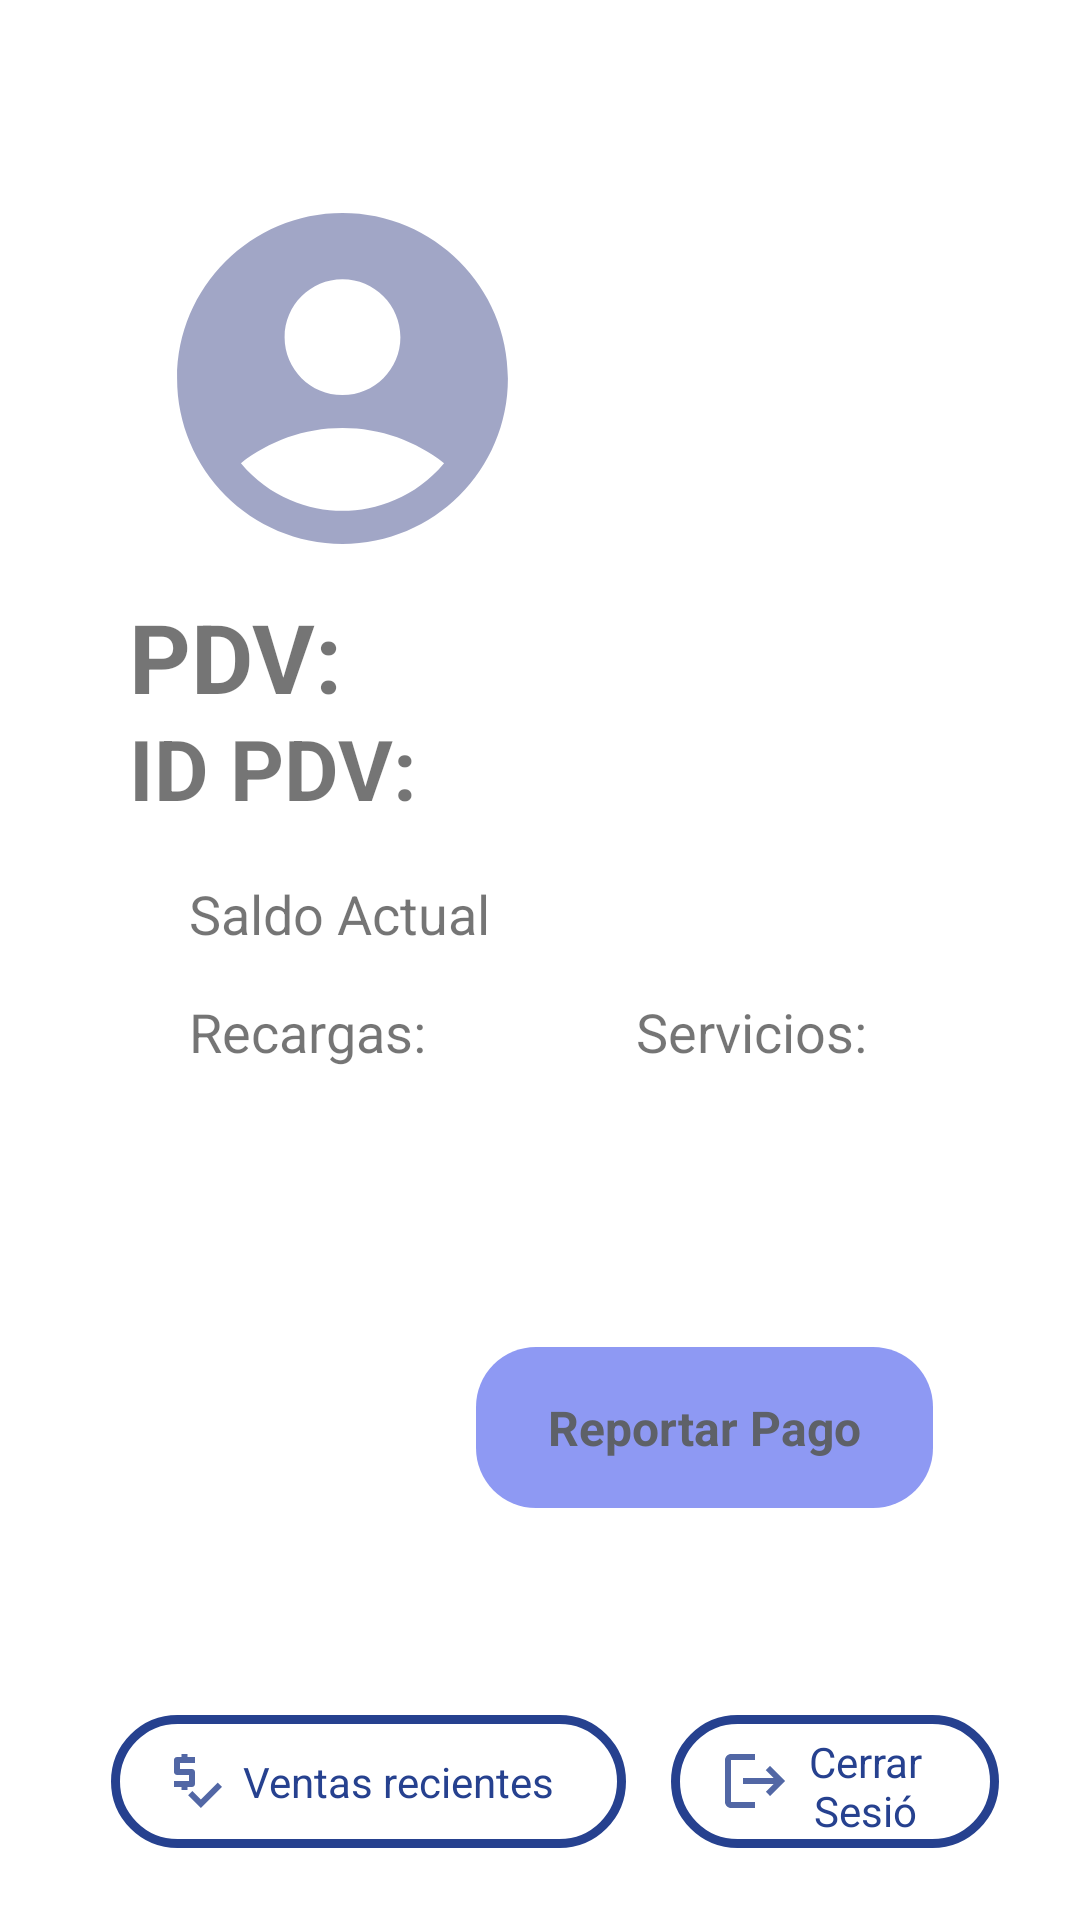

Icons on this 1080px×1920px Android screen, each with its box as [x1=x1, y1=y1, x2=x2, y2=y2]:
user account: [x1=177, y1=213, x2=508, y2=544]
